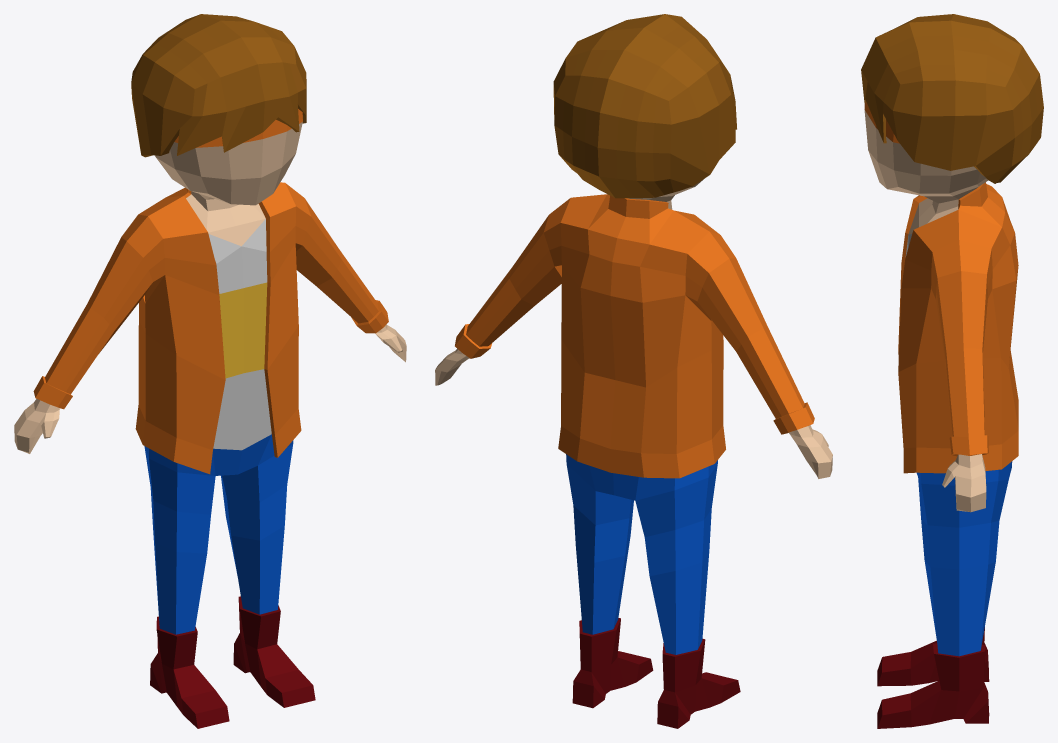
The model's file is boy.lightclothes.fbx.
3 renders of one model, left to right at view 1: azimuth 30°, elevation 25°; view 2: azimuth 150°, elevation 25°; view 3: azimuth 270°, elevation 25°, orthographic.
Parts seen in each view (by area): view 1: Cube.001, Cube.002; view 2: Cube.001, Cube.002; view 3: Cube.001, Cube.002.
Boxes of the visible parts, x1,y1,x2,y2 form: Cube.001: (14,122,406,728); Cube.002: (131,14,306,157); Cube.001: (435,179,832,728); Cube.002: (553,14,736,198); Cube.001: (864,110,1018,728); Cube.002: (861,14,1043,183).
Size of the model in its own units: 656 by 1077 by 263.
